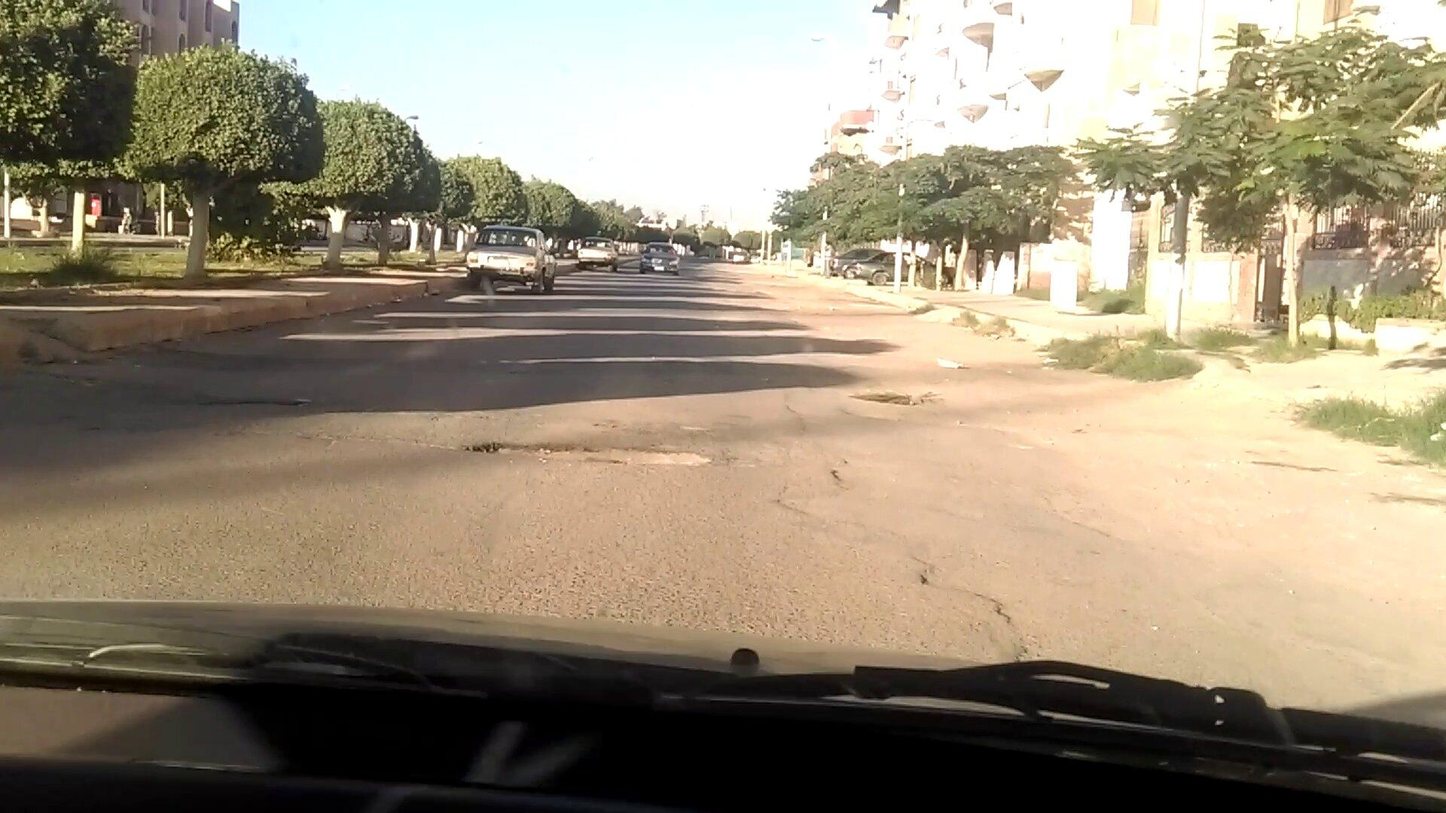Pothole: (448, 440, 757, 486)
